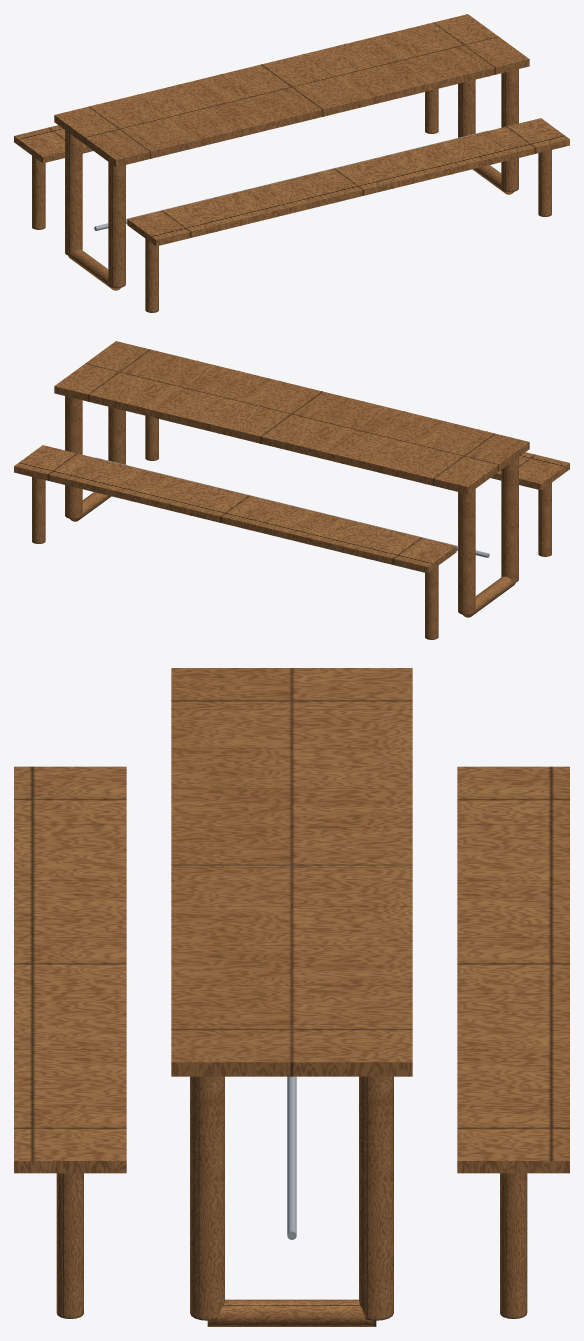
Rendered from Sorgarnitura_6_szemelyes.obj.
3 views of the same model, one above another, from view 1: azimuth 30°, elevation 25°; view 2: azimuth 150°, elevation 25°; view 3: azimuth 270°, elevation 25° (orthographic). The views are drawn at different scales.
Size of the model in its own units: 2.4 by 0.776 by 1.43.
2 materials, 1 textured.
